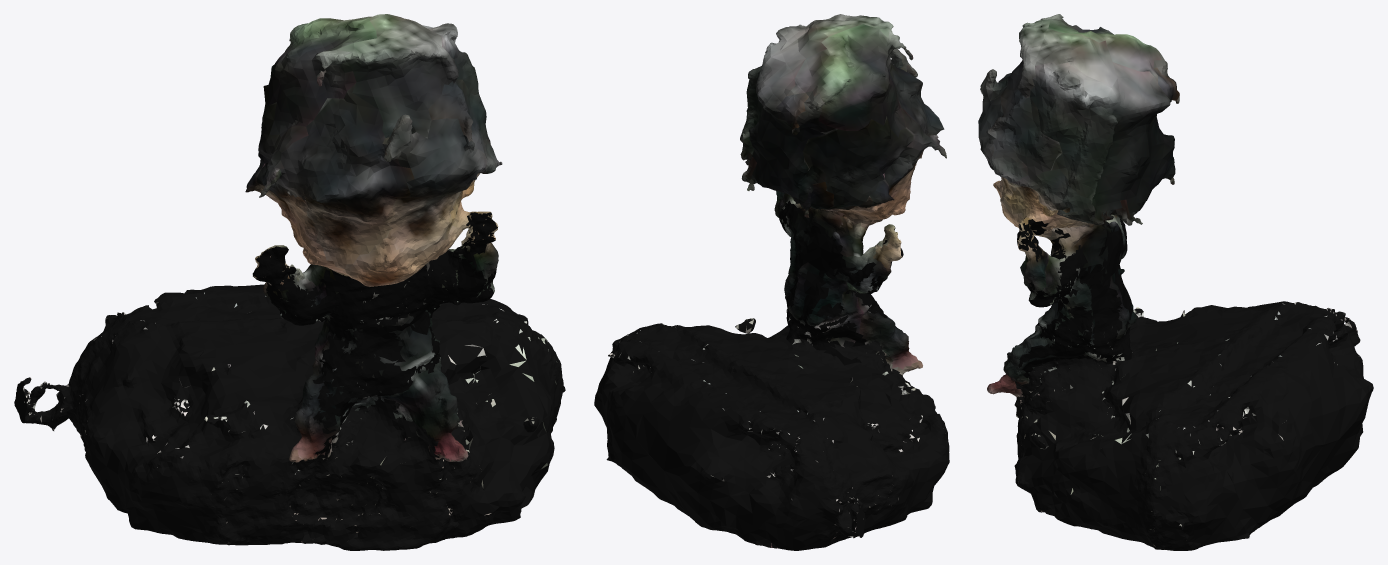
File: jkmodel.final.glb
3 renders of one model, left to right at view 1: azimuth 30°, elevation 25°; view 2: azimuth 150°, elevation 25°; view 3: azimuth 270°, elevation 25°, orthographic. The views are drawn at different scales.
Visible parts, largest first — view 1: entity_3; view 2: entity_3; view 3: entity_3.
Boxes of the visible parts, x1,y1,x2,y2 form: entity_3: [14, 14, 565, 550]; entity_3: [594, 14, 949, 550]; entity_3: [978, 14, 1373, 550].
Size of the model in its own units: 0.857 by 0.9639 by 0.8096.
2 materials, 1 textured.
